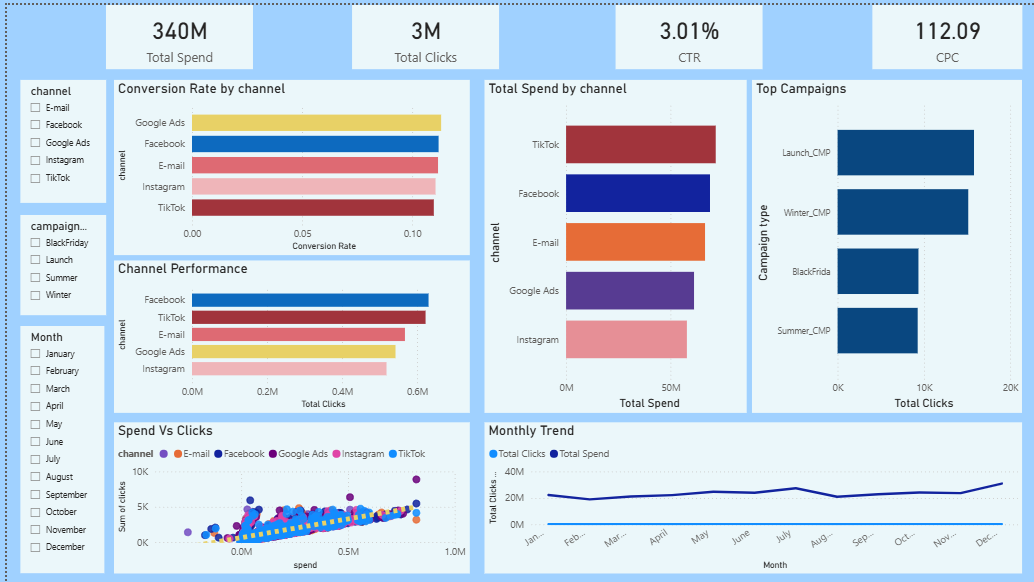

What the dashboard file says about the page in this screenshot:
{"tool":"powerbi","page":{"name":"Page 1","canvas":[1280,720],"ordinal":0},"visuals":[{"type":"barChart","title":"Channel Performance","fields":{"Category":["Cleaned_marketing_campaign.channel"],"Y":["Cleaned_marketing_campaign.Total Clicks"]},"box":[133.3,318.3,443.3,190],"z":0},{"type":"clusteredBarChart","title":"Top Campaigns","fields":{"Category":["Cleaned_marketing_campaign.Campaign type"],"Y":["Cleaned_marketing_campaign.Total Clicks"]},"box":[928.3,93.3,336.7,415],"z":1000},{"type":"scatterChart","title":"Spend Vs Clicks","fields":{"Series":["Cleaned_marketing_campaign.channel"],"Y":["Sum(Cleaned_marketing_campaign.clicks)"],"X":["Cleaned_marketing_campaign.spend"]},"box":[133.3,520,443.3,188.3],"z":2000},{"type":"lineChart","title":"Monthly Trend","fields":{"Y":["Cleaned_marketing_campaign.Total Clicks","Cleaned_marketing_campaign.Total Spend"],"Category":["Cleaned_marketing_campaign.start_date.Variation.Date Hierarchy.Month"]},"box":[595,520,670,188.3],"z":3000},{"type":"card","fields":{"Values":["Cleaned_marketing_campaign.Total Spend"]},"box":[123.3,0,183.3,80],"z":4000},{"type":"card","fields":{"Values":["Cleaned_marketing_campaign.Total Clicks"]},"box":[430,0,183.3,80],"z":5000},{"type":"card","fields":{"Values":["Cleaned_marketing_campaign.CTR"]},"box":[758.3,0,183.3,80],"z":6000},{"type":"card","fields":{"Values":["Cleaned_marketing_campaign.CPC"]},"box":[1078.3,0,186.7,80],"z":7000},{"type":"barChart","fields":{"Category":["Cleaned_marketing_campaign.channel"],"Y":["Cleaned_marketing_campaign.Total Spend"]},"box":[595,93.3,326.7,415],"z":8000},{"type":"barChart","fields":{"Category":["Cleaned_marketing_campaign.channel"],"Y":["Cleaned_marketing_campaign.Conversion Rate"]},"box":[133.3,93.3,443.3,218.3],"z":9000},{"type":"slicer","fields":{"Values":["Cleaned_marketing_campaign.channel"]},"box":[16.7,93.3,106.7,153.3],"z":10000},{"type":"slicer","fields":{"Values":["Cleaned_marketing_campaign.campaign_type"]},"box":[16.7,261.7,106.7,125],"z":11000},{"type":"slicer","fields":{"Values":["Cleaned_marketing_campaign.start_date.Variation.Date Hierarchy.Month"]},"box":[16.7,400,105,308.3],"z":12000}]}

Visuals, with their boxes in screenshot pixels (x1, y1, x2, y2), scaled from the page's 1280x720 canvas onto the 1034x582 screenshot:
"Channel Performance" barChart: 108, 257, 466, 411
"Top Campaigns" clusteredBarChart: 750, 75, 1022, 411
"Spend Vs Clicks" scatterChart: 108, 420, 466, 573
"Monthly Trend" lineChart: 481, 420, 1022, 573
card - Cleaned_marketing_campaign.Total Spend: 100, 0, 248, 65
card - Cleaned_marketing_campaign.Total Clicks: 347, 0, 495, 65
card - Cleaned_marketing_campaign.CTR: 613, 0, 761, 65
card - Cleaned_marketing_campaign.CPC: 871, 0, 1022, 65
barChart - Cleaned_marketing_campaign.channel x Cleaned_marketing_campaign.Total Spend: 481, 75, 745, 411
barChart - Cleaned_marketing_campaign.channel x Cleaned_marketing_campaign.Conversion Rate: 108, 75, 466, 252
slicer - Cleaned_marketing_campaign.channel: 13, 75, 100, 199
slicer - Cleaned_marketing_campaign.campaign_type: 13, 212, 100, 313
slicer - Cleaned_marketing_campaign.start_date.Variation.Date Hierarchy.Month: 13, 323, 98, 573
